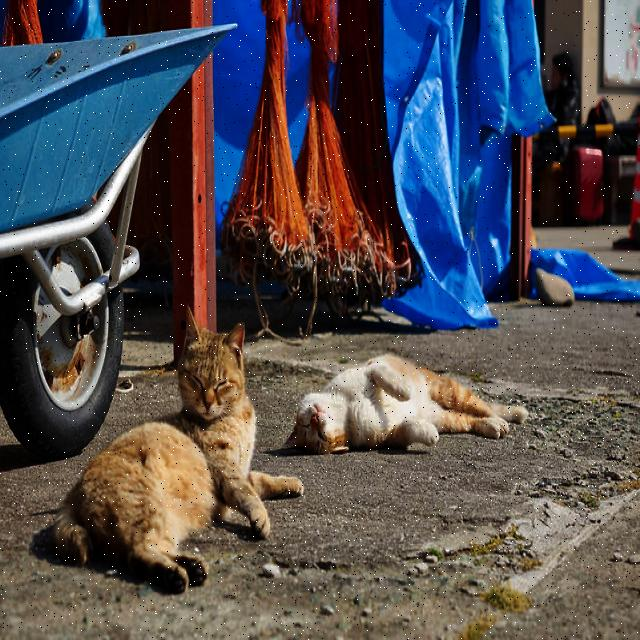cat: (54, 313, 304, 592), (282, 354, 528, 453)
